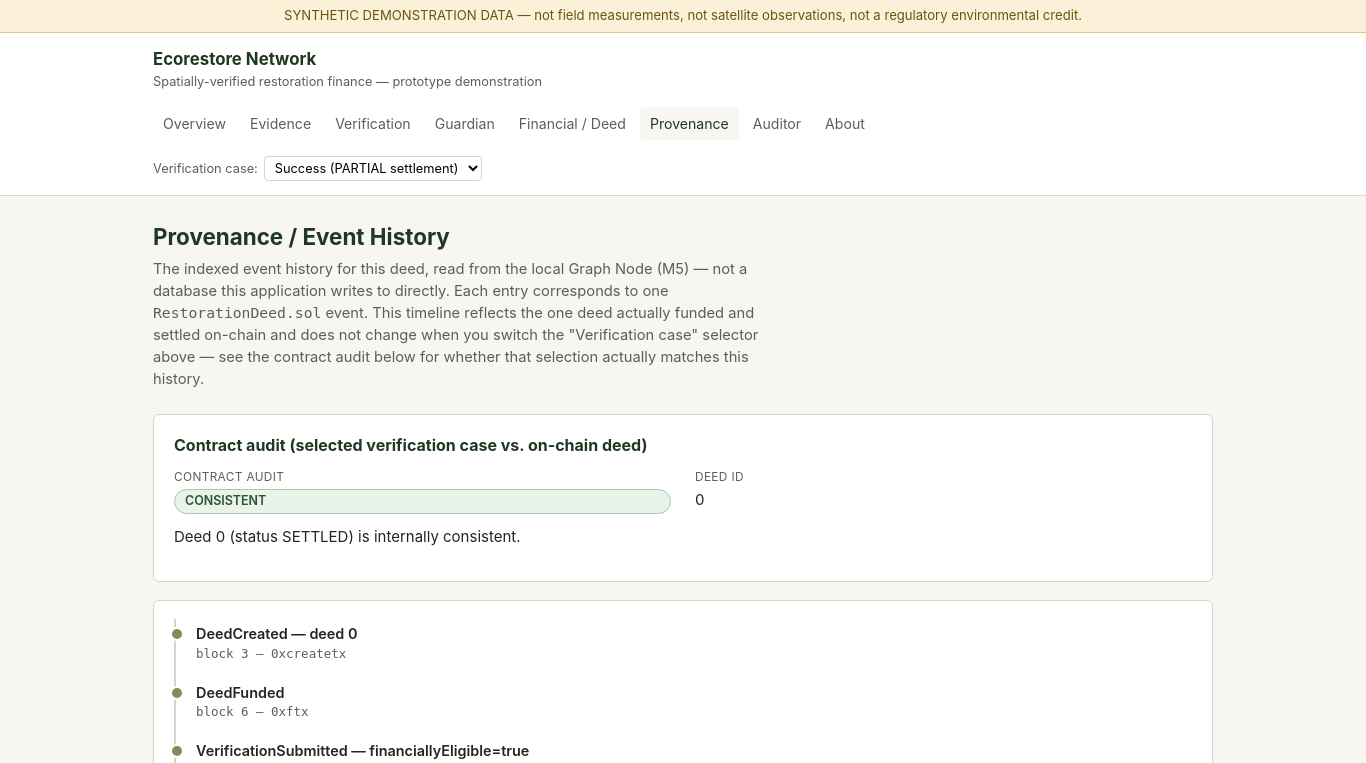
Provenance page reflects the contract audit for the selected verification case › shows CONSISTENT for the success case and ANOMALOUS after switching to the failure case
Expected: the text "DeedCreated — deed 0" is shown, [196,625,358,642]
Expected: the text "CONSISTENT" is shown, [174,489,671,514]
Select "Failure (insufficient evidence)" in the dropdown labelled "Verification case:": coordinates (373, 169) [264,156,482,181]
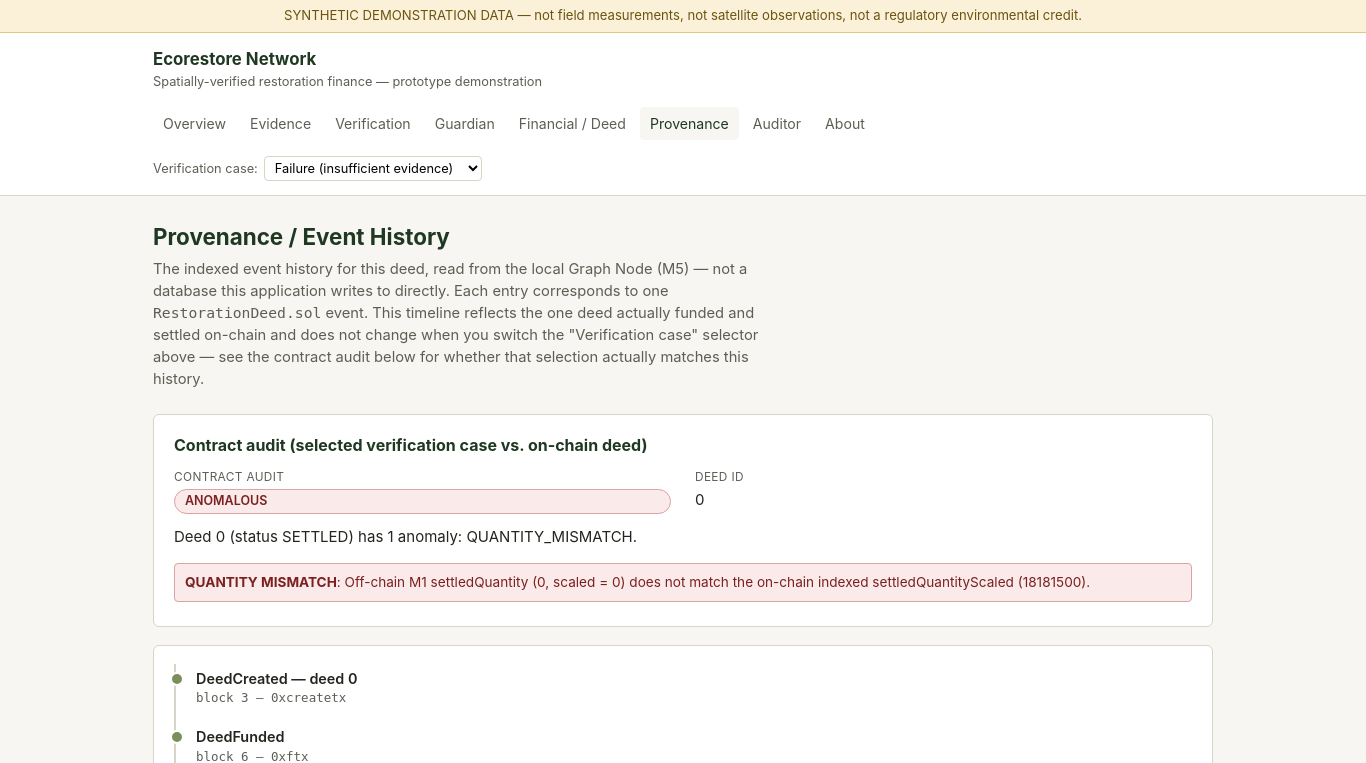
Expected: the text "DeedCreated — deed 0" is shown, [196,670,358,687]
Expected: the text "ANOMALOUS" is shown, [174,489,671,514]
Expected: the text "QUANTITY MISMATCH" is shown, [185,574,337,590]
